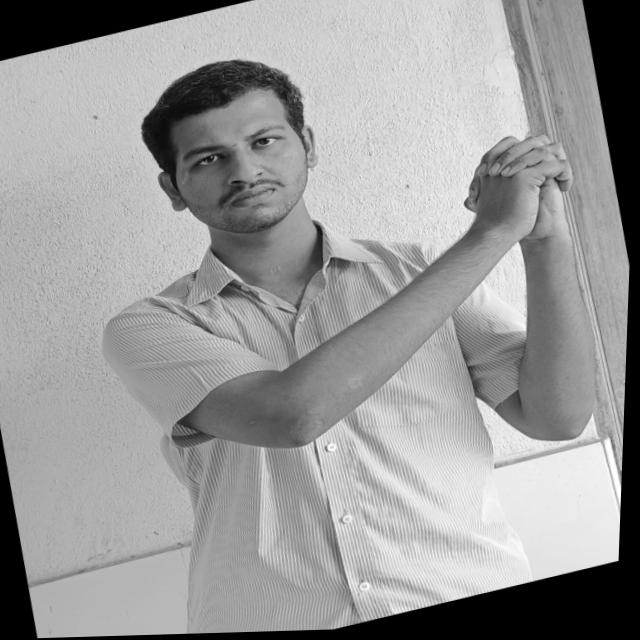Sorry: (446, 122, 590, 249)
